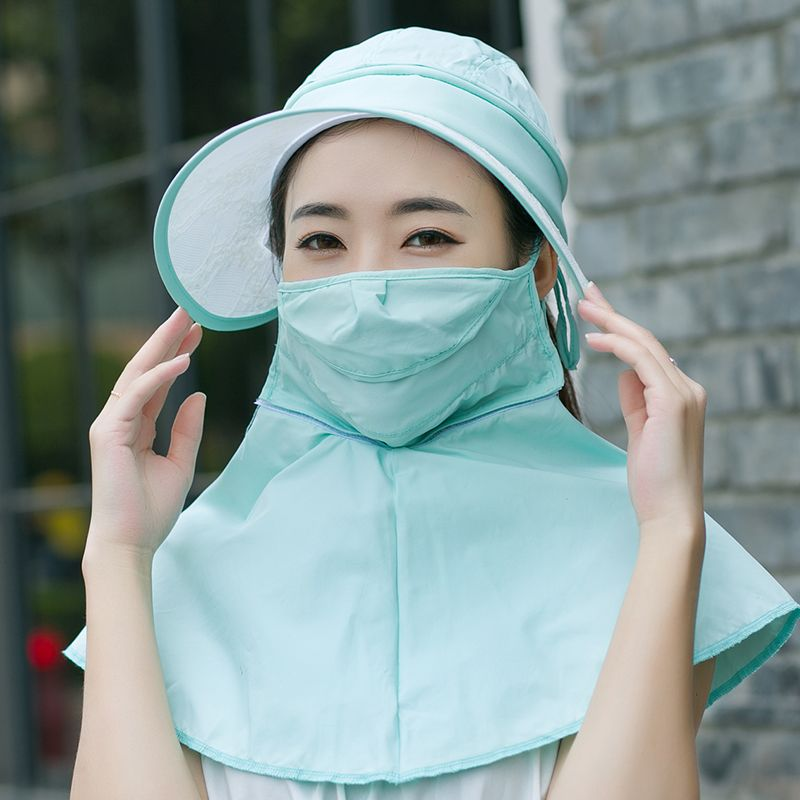face_mask: (273, 120, 508, 418)
